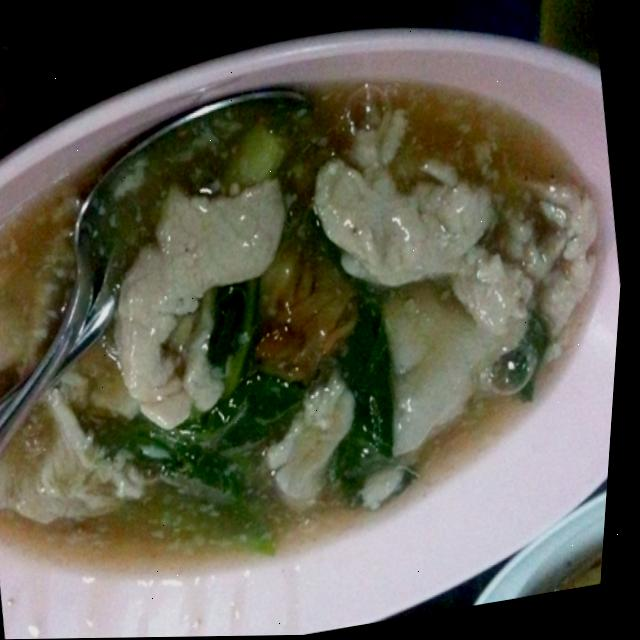面条主食: (0, 3, 639, 640)
